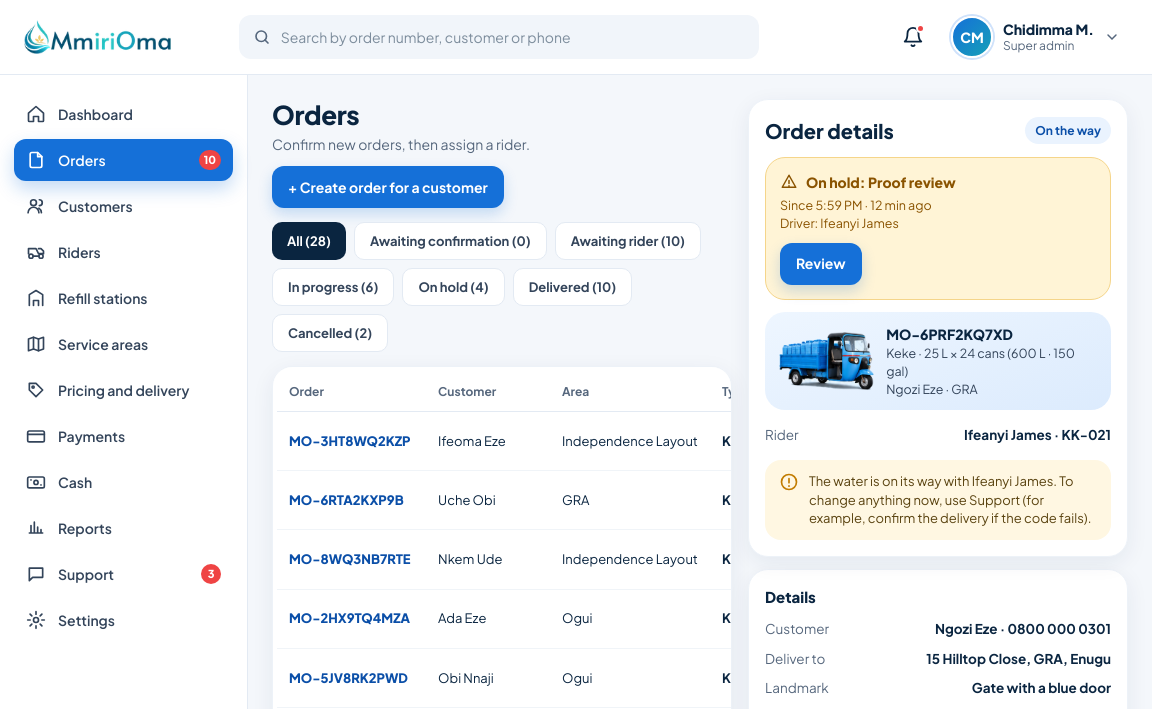
Test: admin pages › approves the proof: asks first, says payment is not changed, and the order becomes Delivered
Click the button "Review". click: click(821, 264)
box: [780,242,862,284]
(page scrolled)
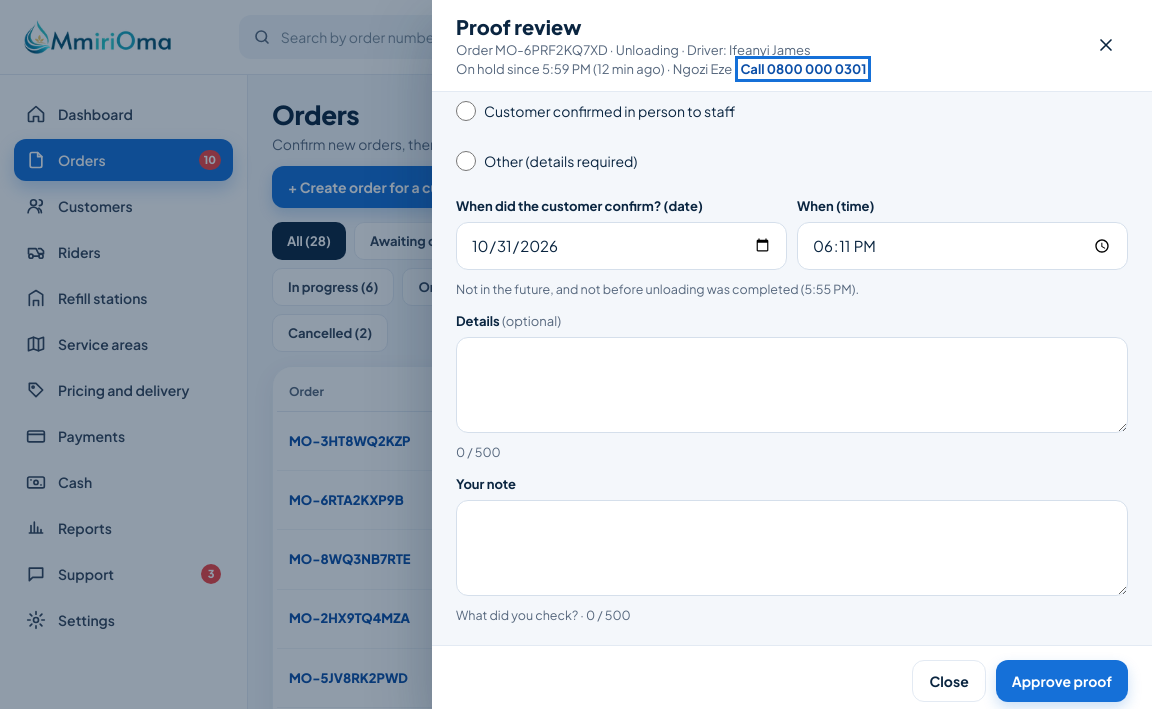
Type "Customer confirmed by phone that 1,000 litres were delivered." into the text box labelled "Your note". click: (792, 548)
box: [456,500,1128,596]
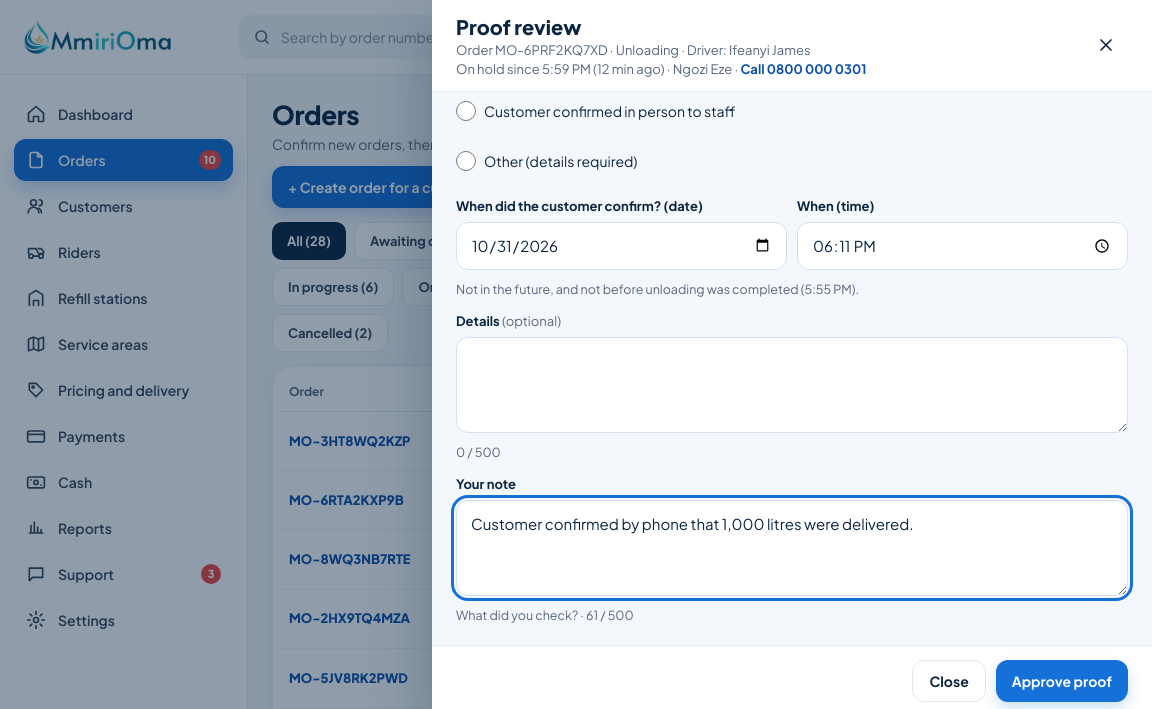
Click the button "Approve proof". click: click(1062, 681)
box: [996,660,1128,702]
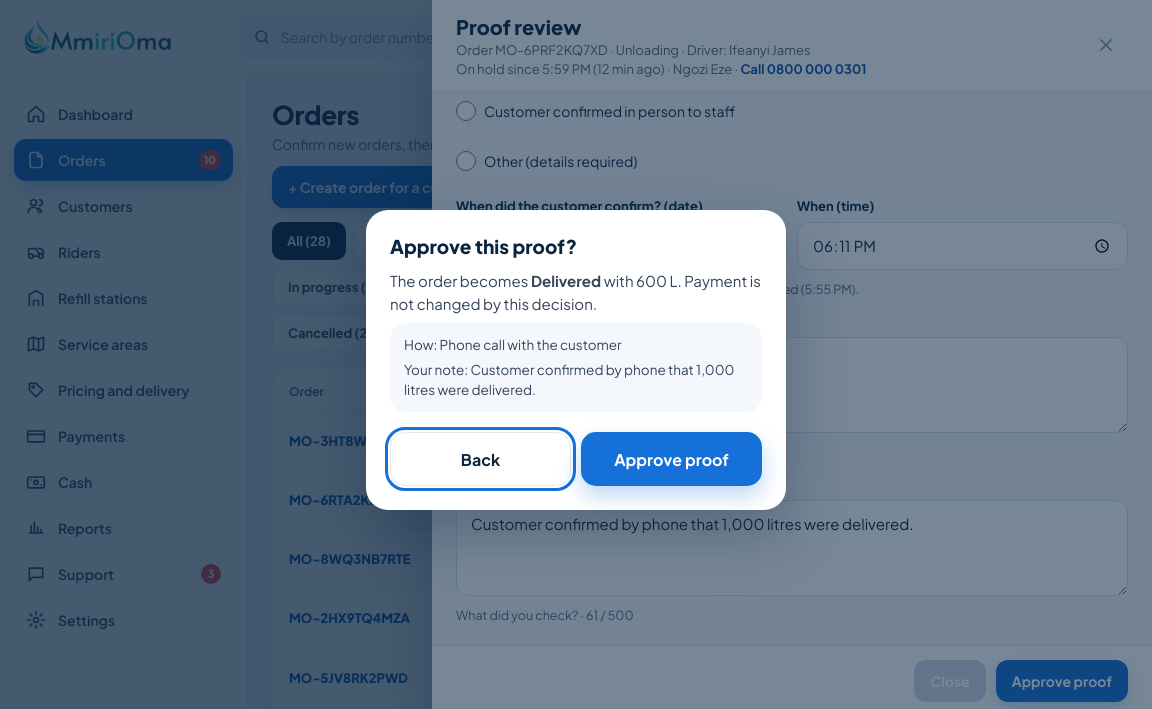
Check: the dialog shows "Delivered with 600 L. Payment is not changed by this decision.", box [366,210,786,510]
Click the button "Approve proof". click: click(672, 459)
box: [581,432,762,486]
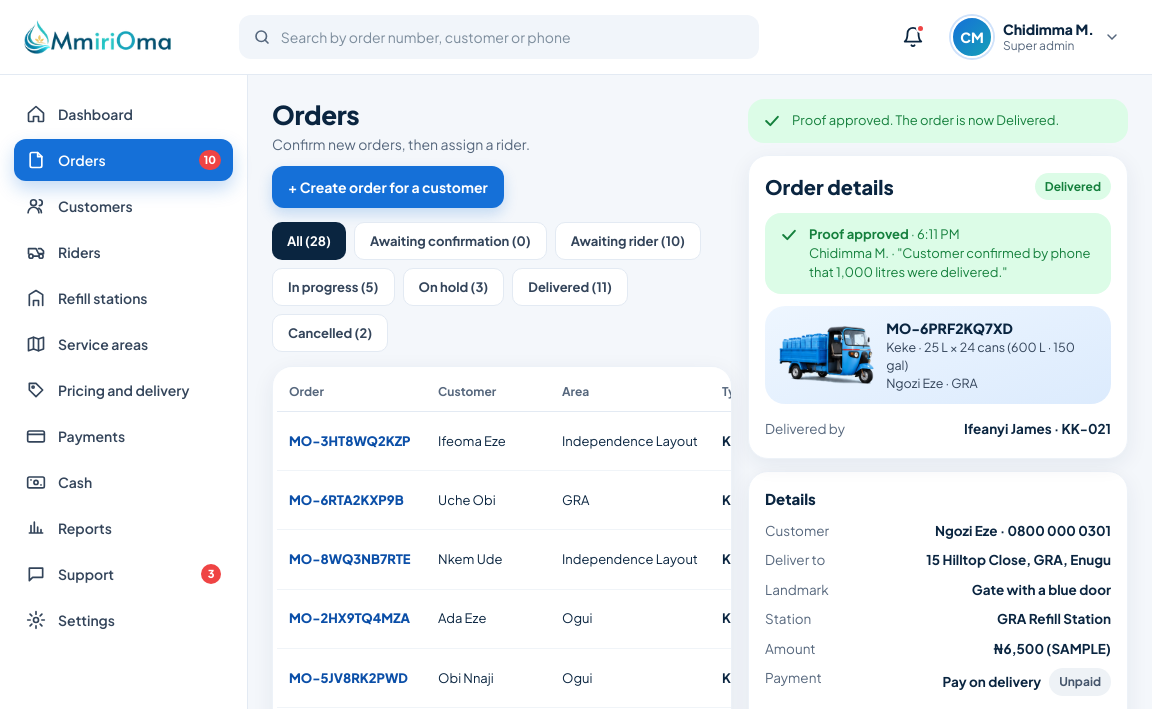
Check: the text "Proof approved. The order is now Delivered." is shown, box [792,111,1059,131]
Check: the text "Customer confirmed by phone that 1,000 litres were delivered." is shown, box [809,245,1090,280]
